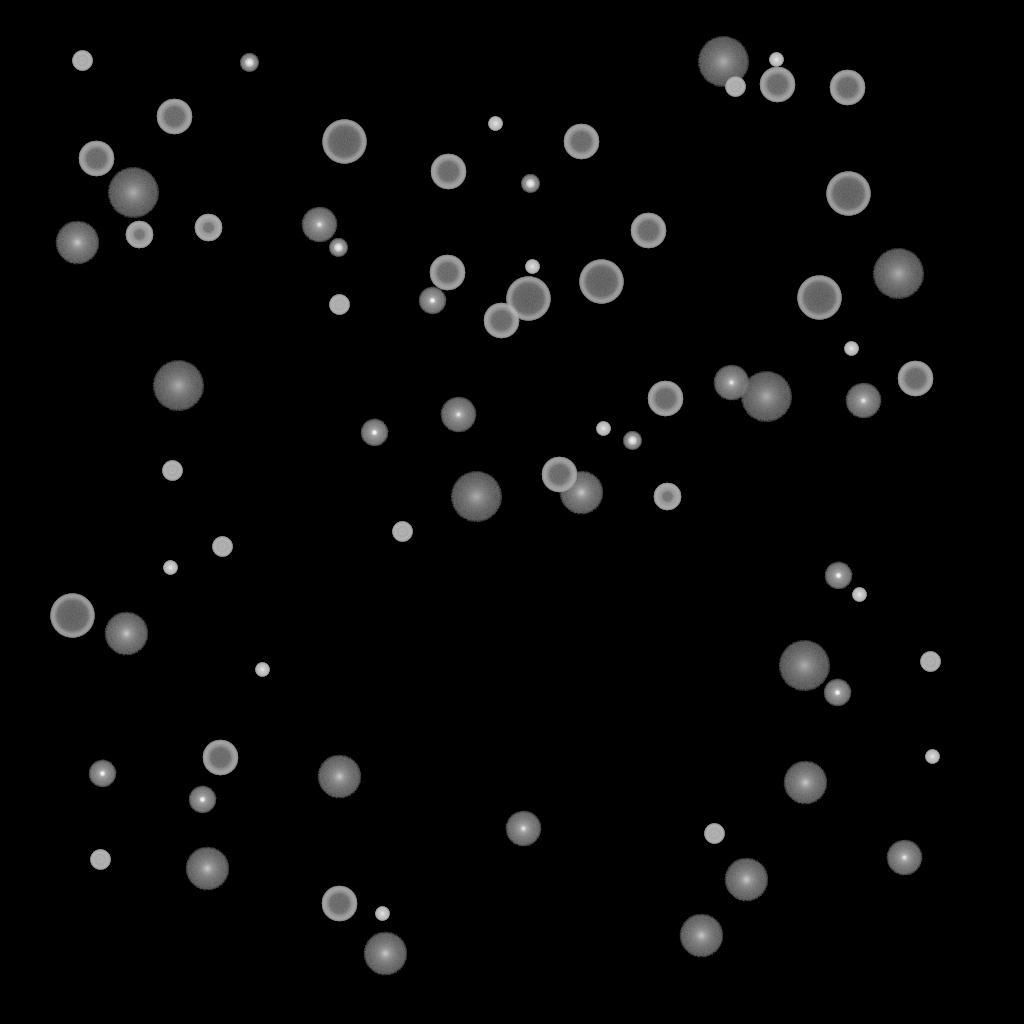depth:-10: (360, 419, 388, 447), (188, 786, 216, 814), (88, 760, 116, 788), (418, 287, 446, 315), (823, 679, 851, 707), (824, 562, 852, 590)
depth:-20: (329, 239, 347, 257), (623, 432, 641, 450), (521, 175, 539, 193), (240, 54, 258, 72)
depth:-30: (525, 260, 539, 274), (255, 663, 269, 677), (488, 117, 502, 131), (925, 750, 939, 764), (596, 422, 610, 436), (852, 588, 866, 602), (375, 907, 389, 921), (769, 53, 783, 67), (844, 342, 858, 356), (163, 561, 177, 575)
depth:-40: (392, 522, 412, 542), (725, 77, 745, 97), (212, 537, 232, 557), (920, 652, 940, 672), (162, 461, 182, 481), (329, 295, 349, 315), (90, 850, 110, 870), (72, 51, 92, 71), (704, 824, 724, 844)
depth:-50: (194, 214, 222, 242), (653, 483, 681, 511), (125, 221, 153, 249)
depth:-60: (541, 457, 577, 493), (429, 255, 465, 291), (759, 67, 795, 103), (563, 124, 599, 160), (430, 154, 466, 190), (647, 381, 683, 417), (321, 886, 357, 922), (156, 99, 192, 135), (897, 361, 933, 397), (483, 303, 519, 339), (202, 740, 238, 776), (829, 70, 865, 106), (630, 213, 666, 249), (78, 141, 114, 177)
depth:-70: (322, 120, 366, 164), (506, 277, 550, 321), (797, 276, 841, 320), (579, 260, 623, 304), (826, 172, 870, 216), (50, 594, 94, 638)
depth:0: (845, 383, 881, 419), (713, 365, 749, 401), (505, 811, 541, 847), (440, 397, 476, 433), (886, 840, 922, 876), (301, 207, 337, 243)
depth:10: (185, 847, 229, 891), (679, 914, 723, 958), (783, 761, 827, 805), (363, 932, 407, 976), (317, 755, 361, 799), (559, 471, 603, 515), (104, 612, 148, 656), (55, 221, 99, 265), (724, 858, 768, 902)
depth:20: (872, 249, 924, 299), (107, 168, 159, 218), (778, 641, 830, 691), (740, 372, 792, 422), (450, 472, 502, 522), (152, 361, 204, 411), (697, 37, 749, 87)
